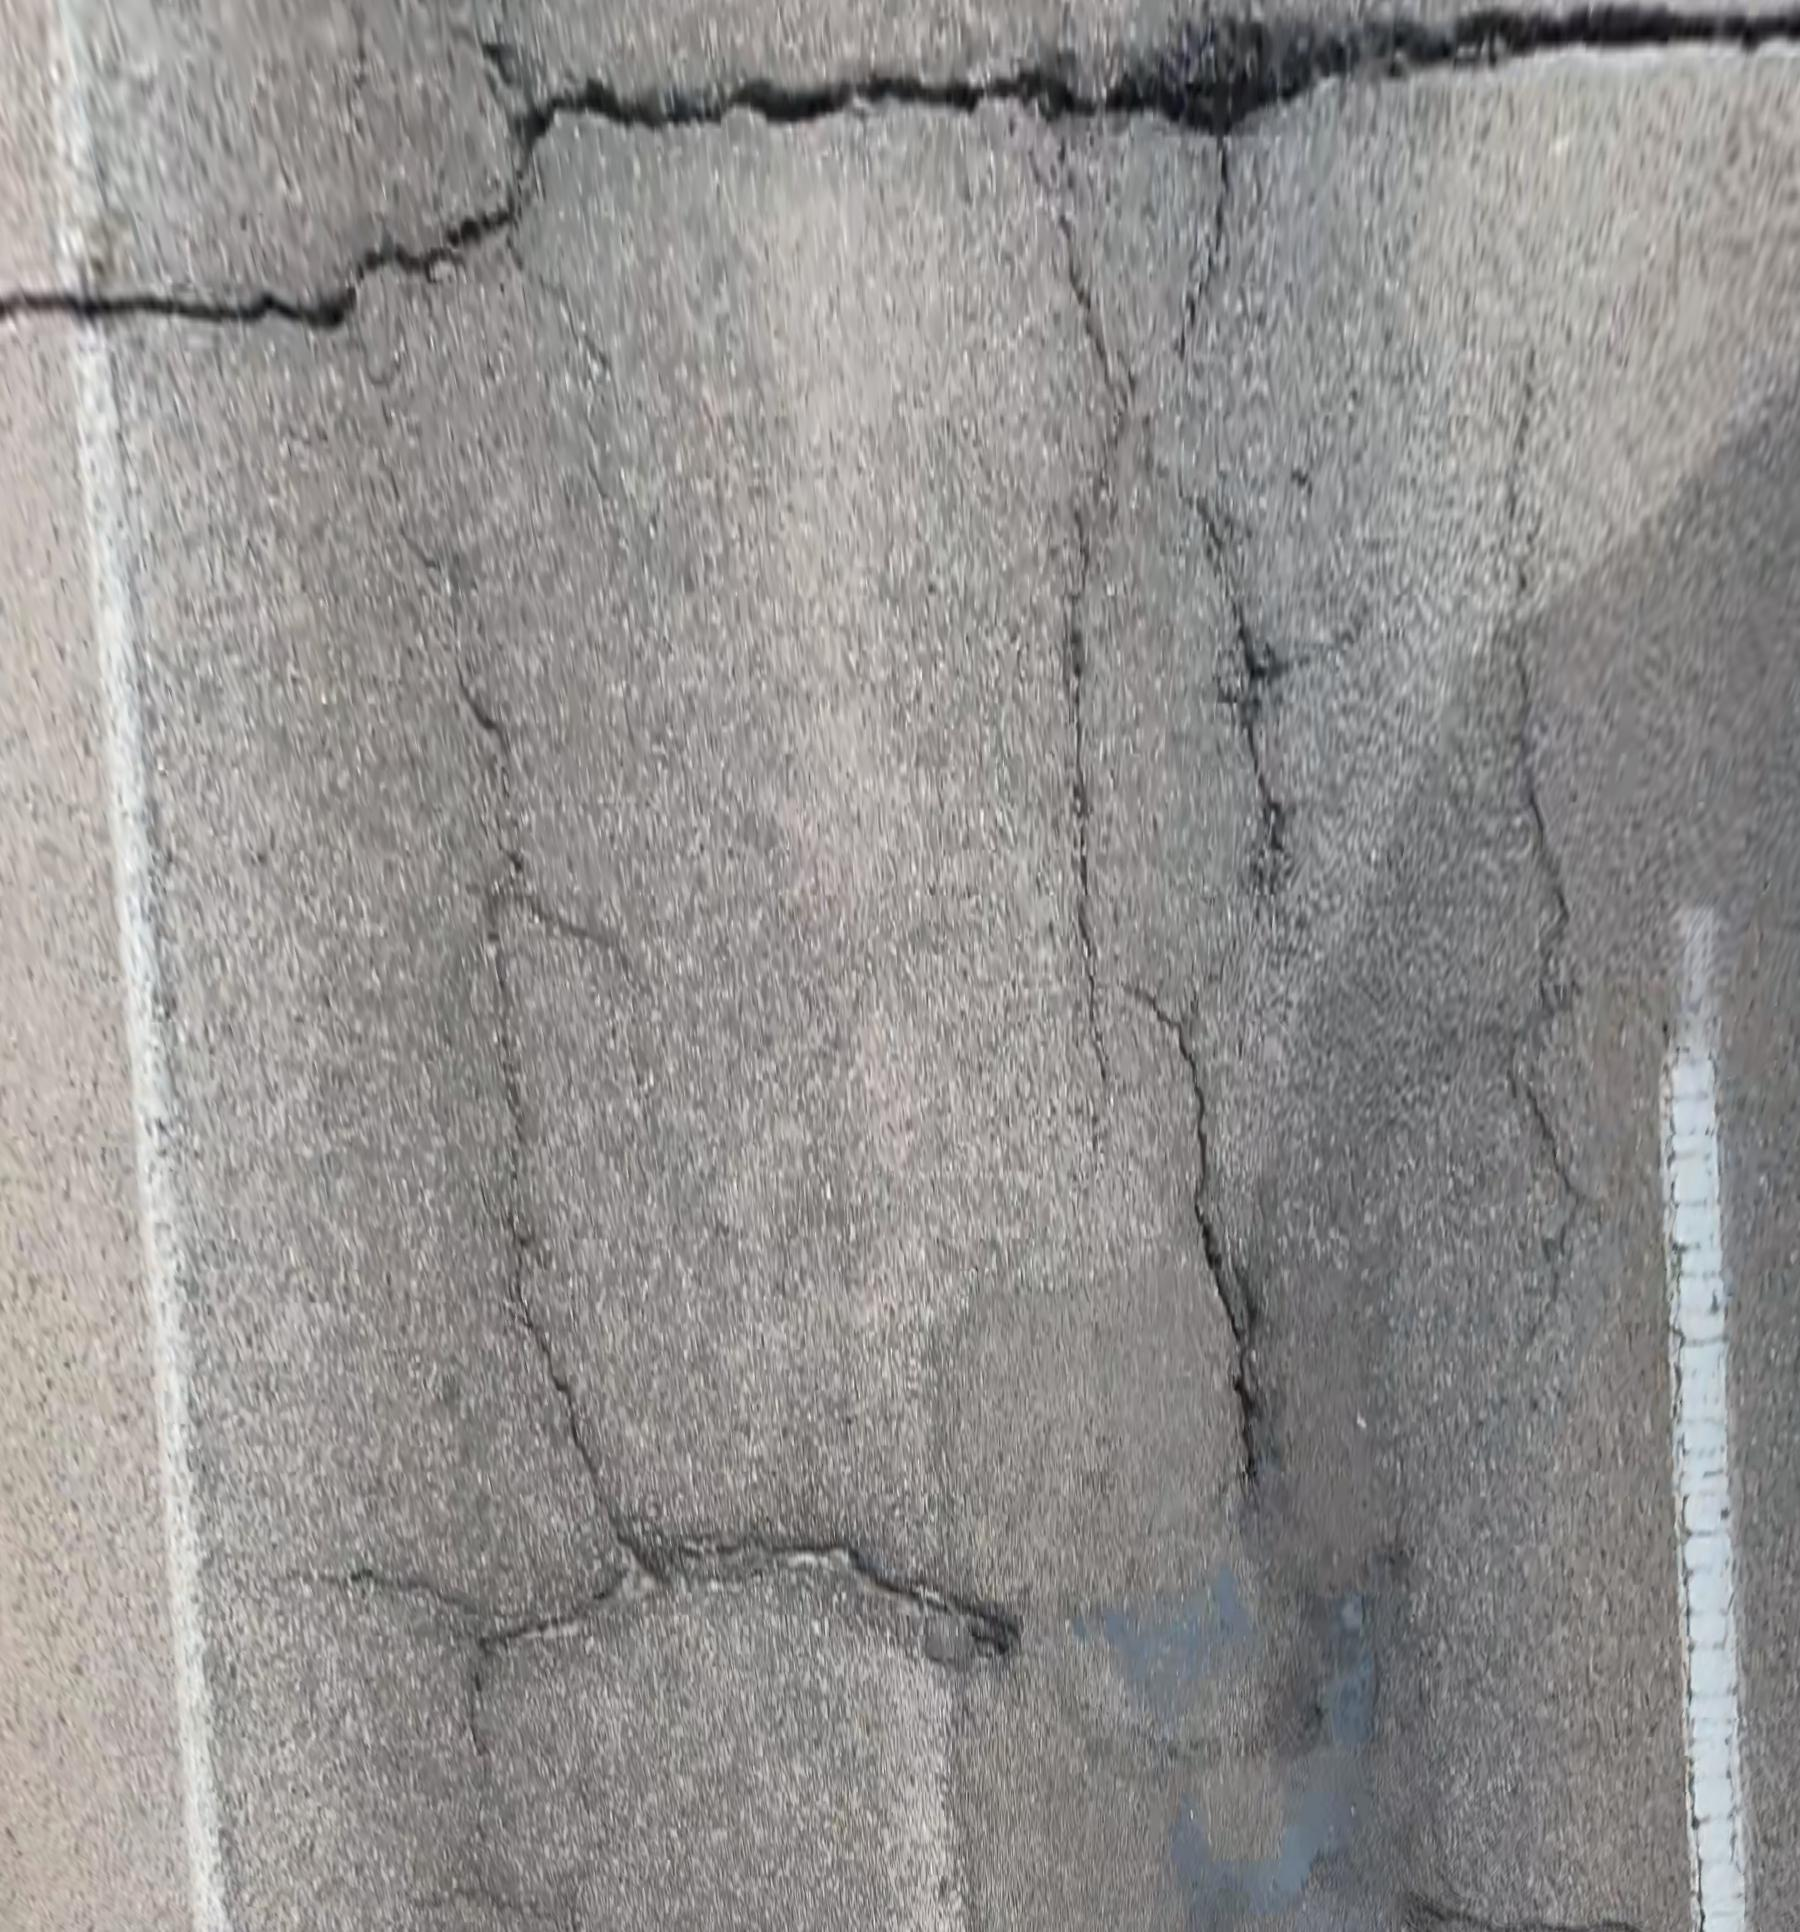pothole: (1106, 12, 1479, 140)
pothole_patch_good: (1073, 1555, 1406, 1932)
